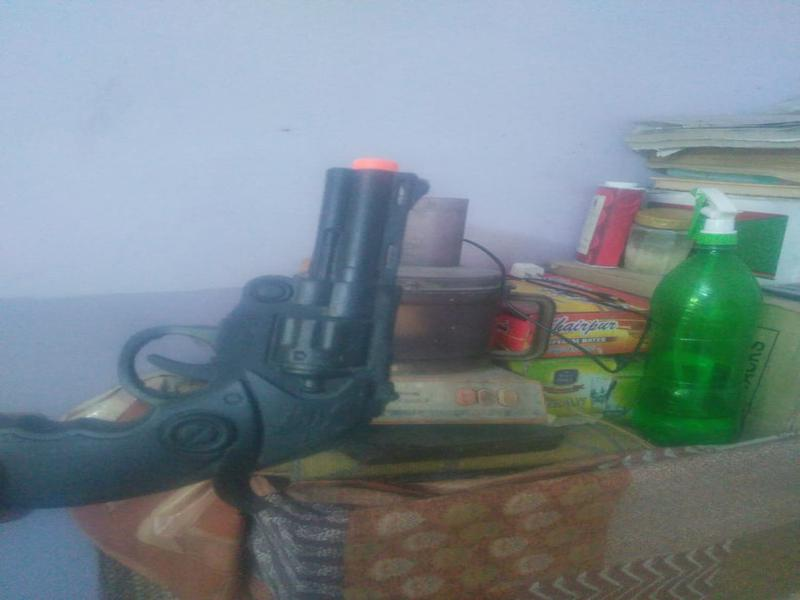gun: (1, 143, 442, 496)
